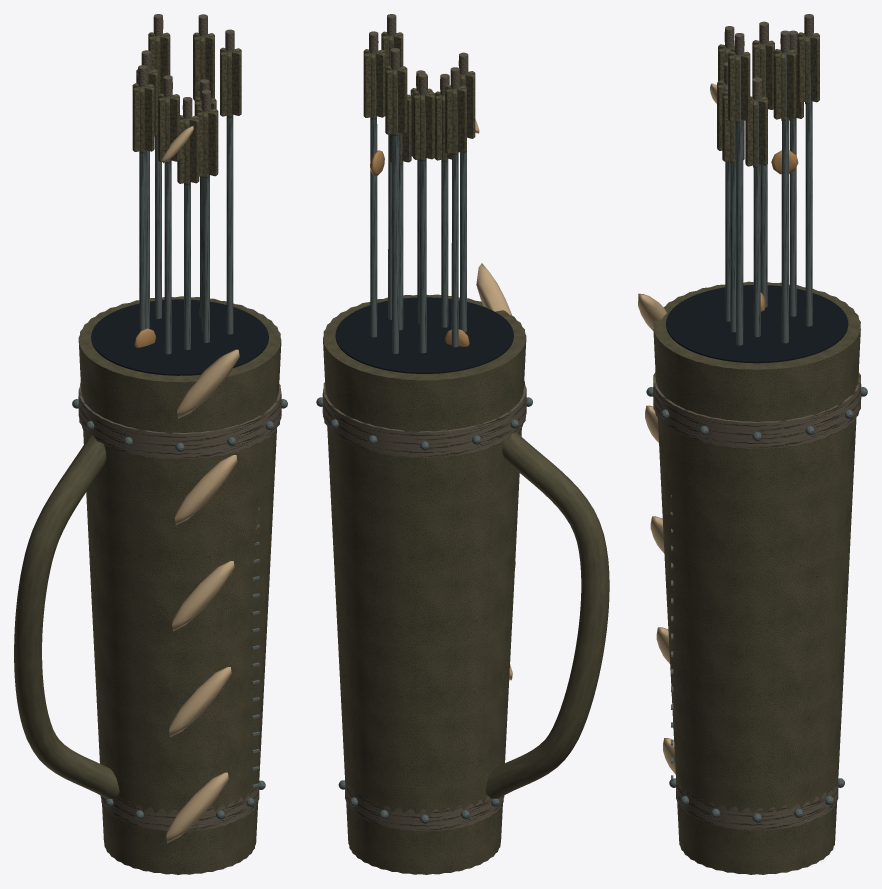
The picture shows the model from 3 angles, left to right: view 1: azimuth 30°, elevation 25°; view 2: azimuth 150°, elevation 25°; view 3: azimuth 270°, elevation 25°; orthographic projection. The views are drawn at different scales.
Visible parts, largest first — view 1: saddle leather, edge hardware, machined receiver, recess shadow, thread loop; view 2: saddle leather, edge hardware, machined receiver, recess shadow, thread loop; view 3: saddle leather, edge hardware, machined receiver, recess shadow, thread loop.
Boxes of the visible parts, x1,y1,x2,y2 form: saddle leather: (14,32,281,874); edge hardware: (72,34,287,819); machined receiver: (78,14,281,831); recess shadow: (91,299,268,375); thread loop: (162,126,239,843); saddle leather: (323,31,609,874); edge hardware: (316,34,532,823); machined receiver: (322,14,526,831); recess shadow: (335,297,513,373); thread loop: (475,119,515,680); saddle leather: (653,32,860,874); edge hardware: (646,35,867,822); machined receiver: (653,14,861,830); recess shadow: (666,285,848,363); thread loop: (638,83,716,773).
Bounding box in the file's own units: 0.1935 × 0.561 × 0.1411.
6 materials, 3 textured.
